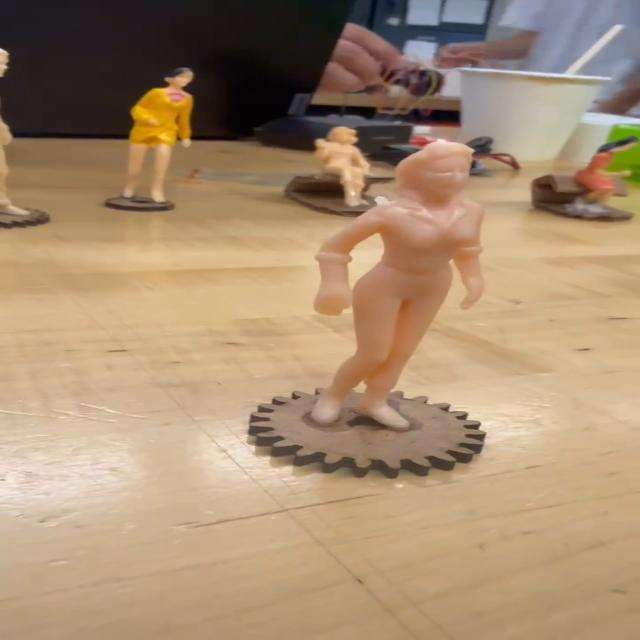Unauthorized: (306, 128, 490, 454)
